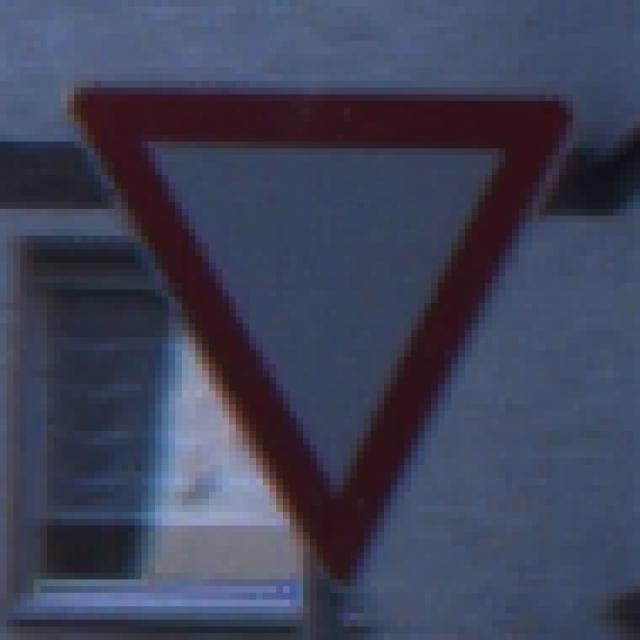Give Way: (62, 62, 587, 587)
